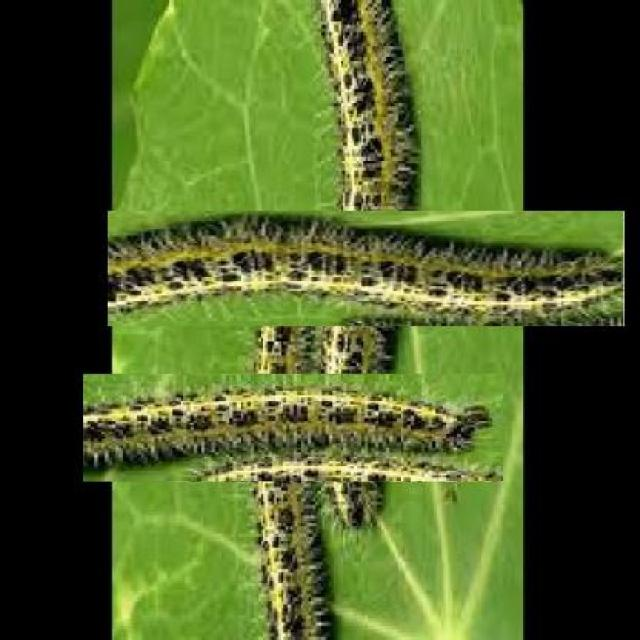Plaga: (206, 112, 525, 430), (161, 296, 427, 562)
